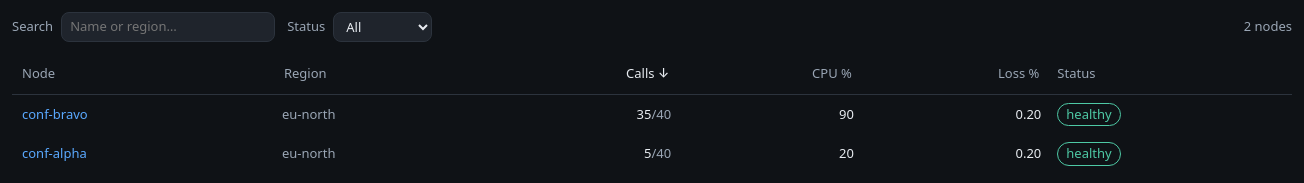
Scenario: NodeTable search and filter › announces the filtered result count in the live region
This screenshot has width=1304, height=183.
Step 1. Type "bravo" into the search field labelled "Search" → coordinates (168, 27), box [61, 12, 275, 42]
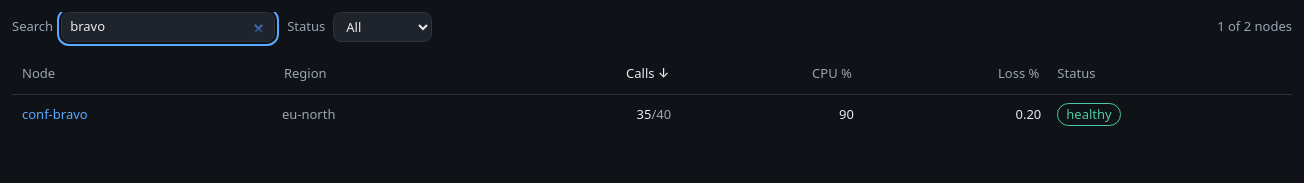
Expected: the message reads "1 of 2 nodes", [1217, 17, 1292, 35]
